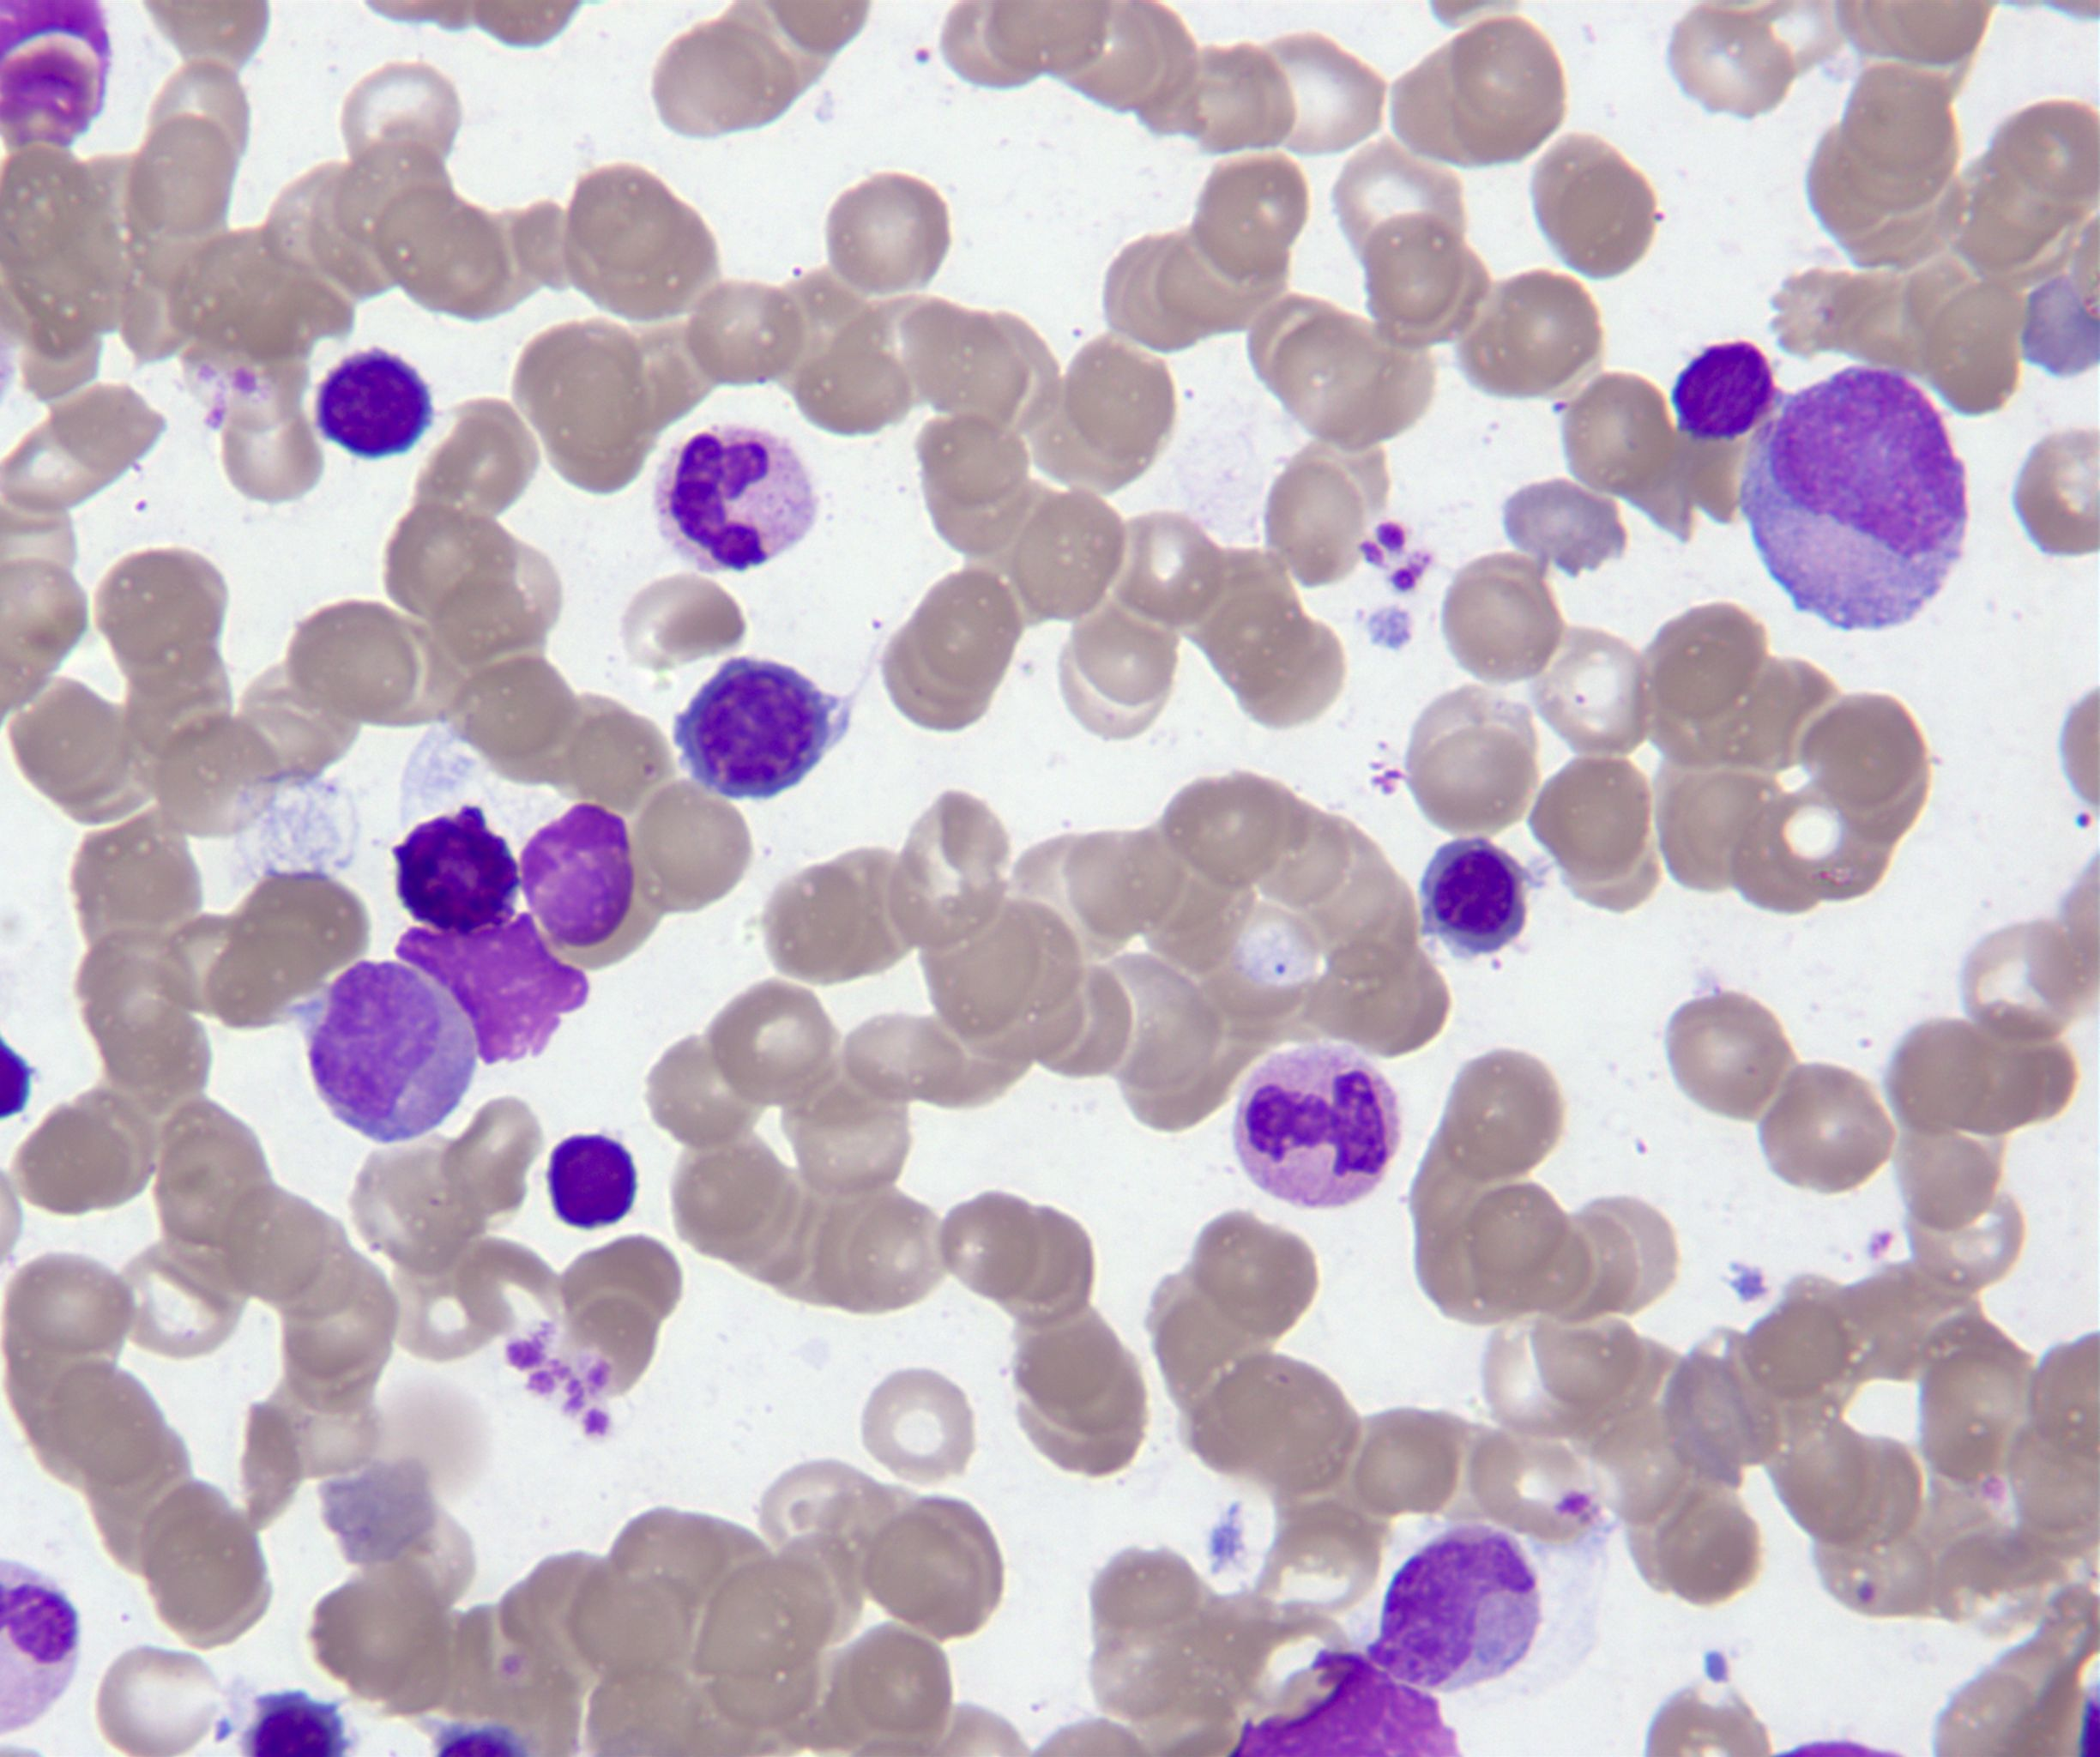2: (1732, 363, 1974, 635)
23: (666, 653, 846, 806)
24: (1411, 834, 1537, 968)
32: (309, 338, 441, 466), (1667, 337, 1784, 448), (537, 1129, 640, 1237)
4: (284, 953, 481, 1150), (1359, 1513, 1559, 1699)
5: (1224, 1033, 1409, 1214), (649, 415, 825, 583)
B4: (382, 799, 523, 939)
